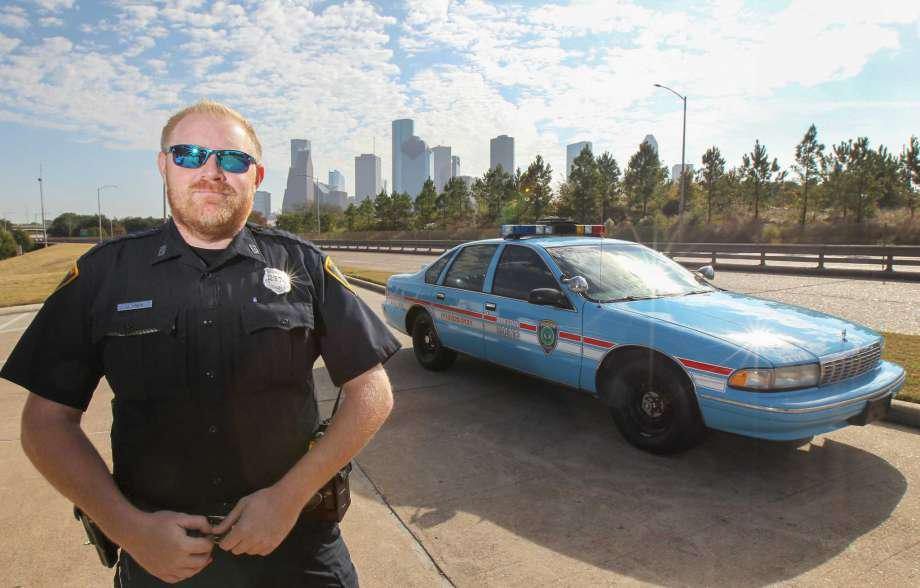car: (376, 232, 911, 462)
